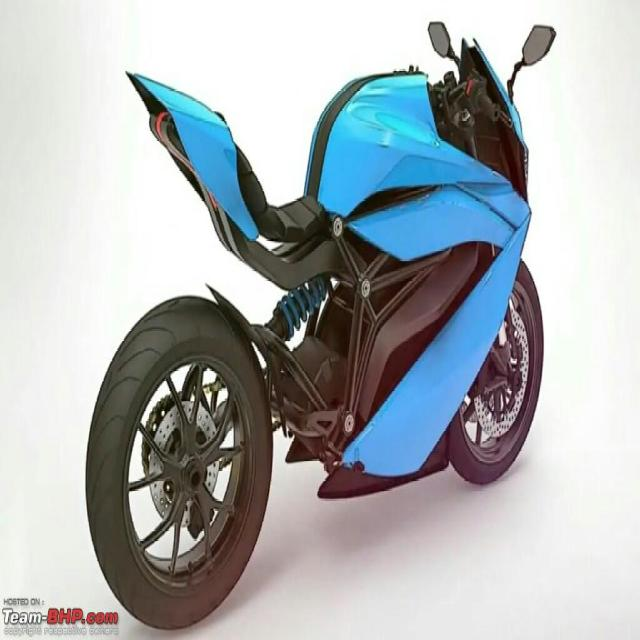motorcycle: (86, 22, 555, 627)
